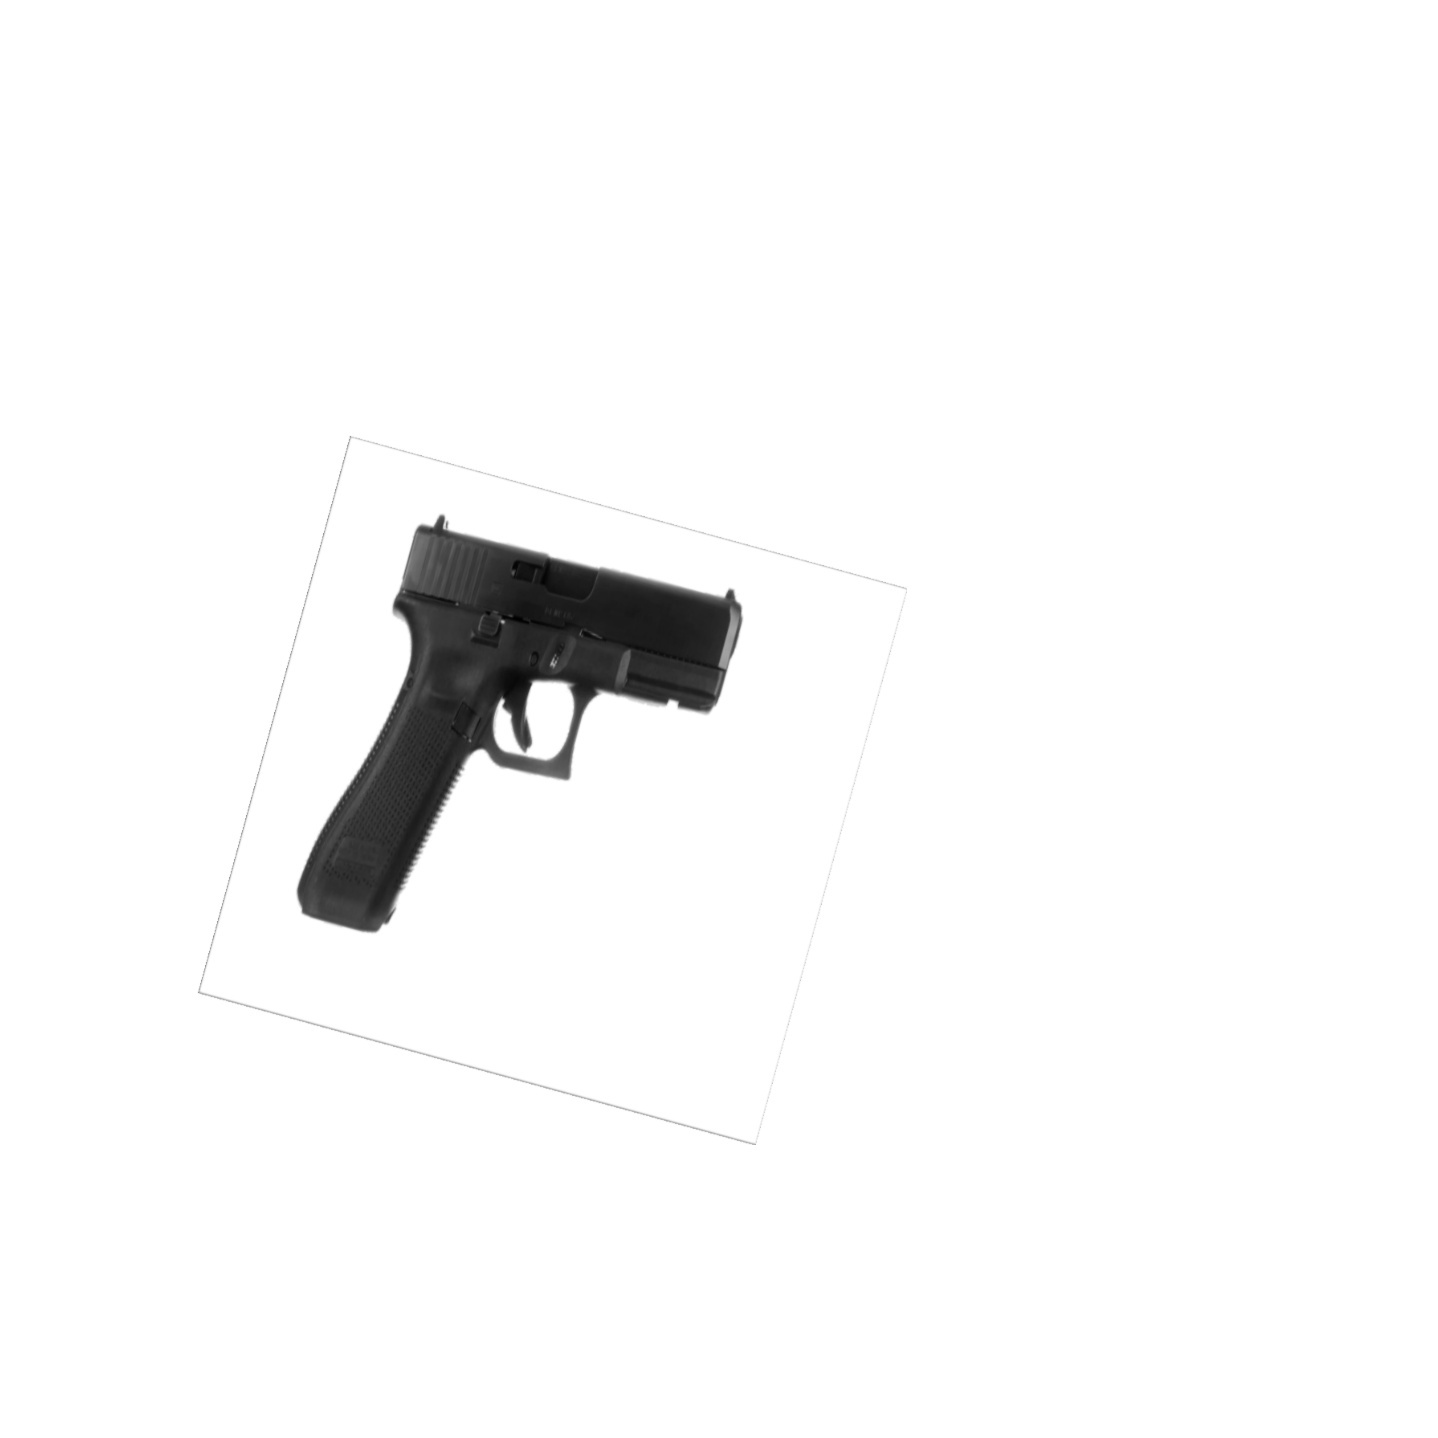gun: (294, 512, 751, 936)
